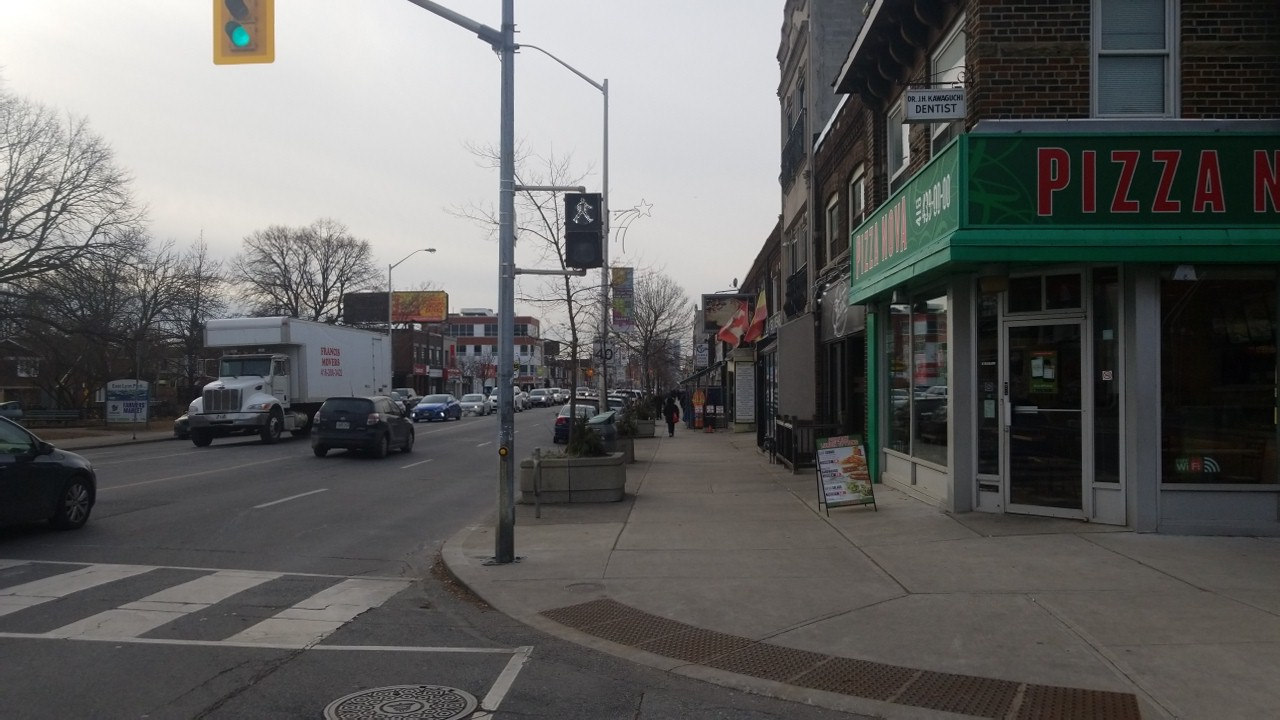light: (558, 185, 615, 277)
